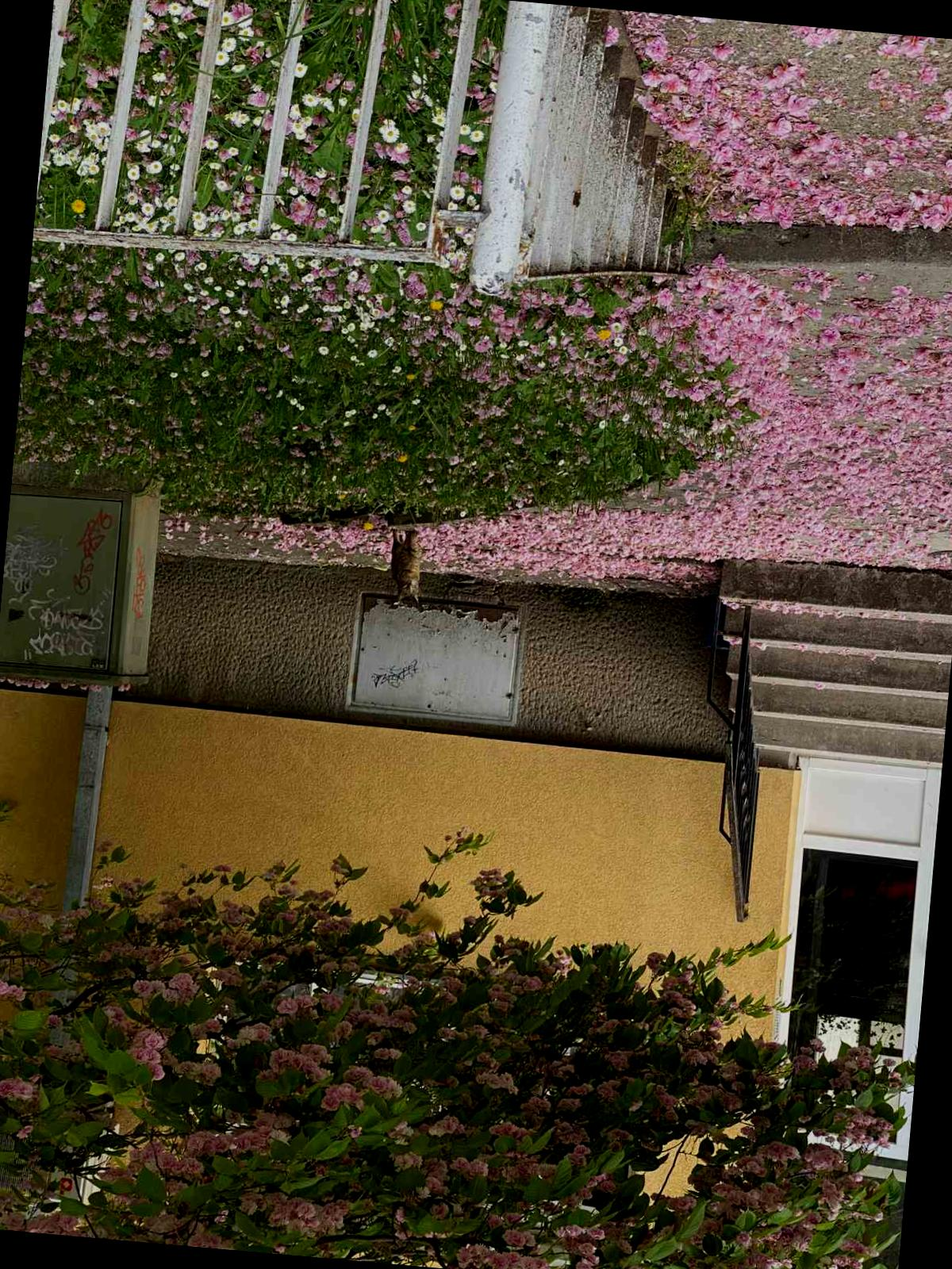macka: (387, 528, 426, 605)
